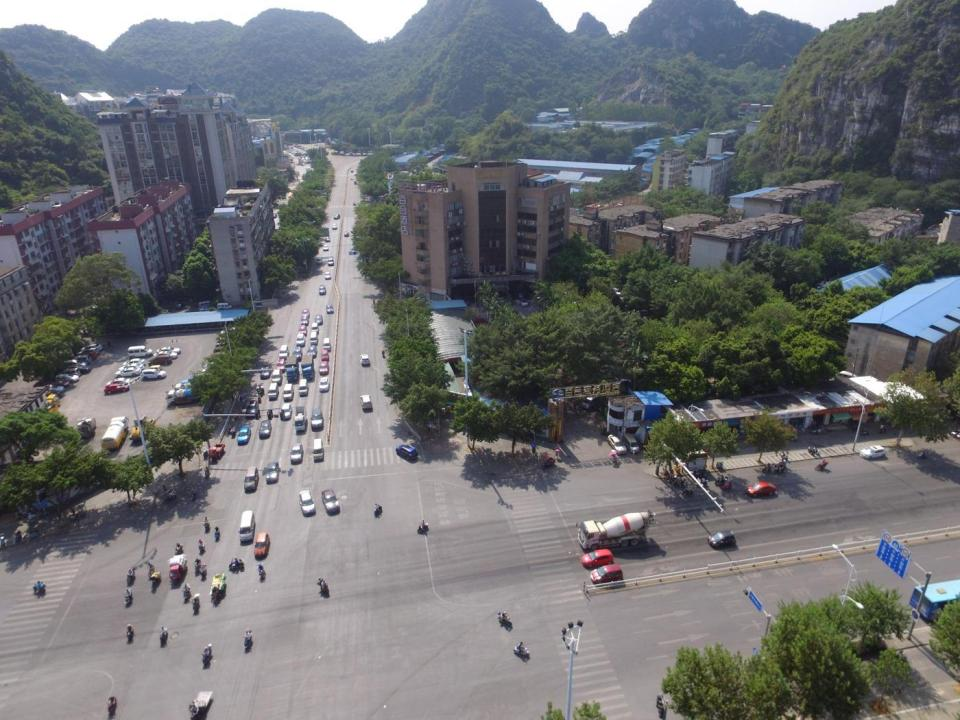bus: (909, 579, 960, 622)
car: (580, 547, 614, 567), (590, 564, 624, 584), (746, 481, 776, 498), (708, 530, 737, 547), (322, 487, 340, 513), (299, 489, 315, 516), (254, 533, 270, 557), (608, 434, 627, 454), (859, 445, 885, 459), (265, 461, 279, 483), (148, 354, 172, 366), (104, 382, 130, 393), (115, 367, 141, 378), (289, 443, 304, 462), (310, 410, 324, 430), (237, 425, 251, 445), (142, 369, 167, 380), (258, 420, 271, 438), (66, 364, 91, 373), (280, 402, 292, 420), (246, 400, 258, 418), (44, 379, 69, 387), (514, 294, 529, 307), (55, 374, 79, 382), (154, 351, 178, 359), (106, 378, 130, 386), (260, 364, 272, 380), (119, 362, 145, 369), (360, 395, 372, 410), (318, 376, 329, 392), (156, 347, 181, 354), (74, 352, 97, 359), (123, 359, 145, 366), (46, 384, 64, 392), (318, 361, 329, 374), (307, 344, 318, 357), (77, 348, 99, 354), (295, 334, 306, 346), (293, 346, 303, 359), (359, 354, 370, 365), (298, 324, 307, 336), (81, 344, 102, 349), (320, 350, 329, 361), (314, 314, 323, 325), (318, 284, 326, 296), (199, 306, 217, 311), (324, 271, 332, 280), (300, 316, 308, 325), (301, 308, 310, 316), (326, 304, 334, 313), (328, 257, 334, 266), (316, 257, 322, 265), (322, 244, 328, 251), (332, 223, 338, 229), (334, 214, 339, 219), (344, 231, 349, 236), (325, 237, 330, 242)
truck: (576, 510, 655, 549), (100, 416, 130, 451)
van: (238, 510, 255, 544), (242, 467, 258, 493), (285, 354, 299, 381), (300, 354, 314, 380), (624, 432, 640, 453), (127, 346, 153, 358), (294, 406, 306, 431), (580, 396, 599, 410), (313, 437, 324, 461), (282, 382, 294, 402), (268, 382, 279, 399), (278, 344, 290, 359), (271, 368, 282, 384), (298, 378, 308, 395), (70, 354, 91, 362), (60, 368, 80, 376), (65, 359, 87, 366), (309, 330, 318, 346), (213, 343, 227, 352), (322, 337, 331, 351), (217, 302, 232, 310), (198, 300, 212, 306), (311, 322, 318, 333)
